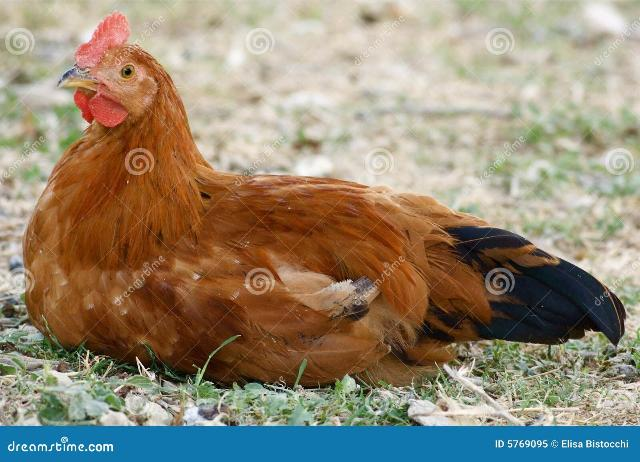Chicken: (23, 9, 628, 386)
